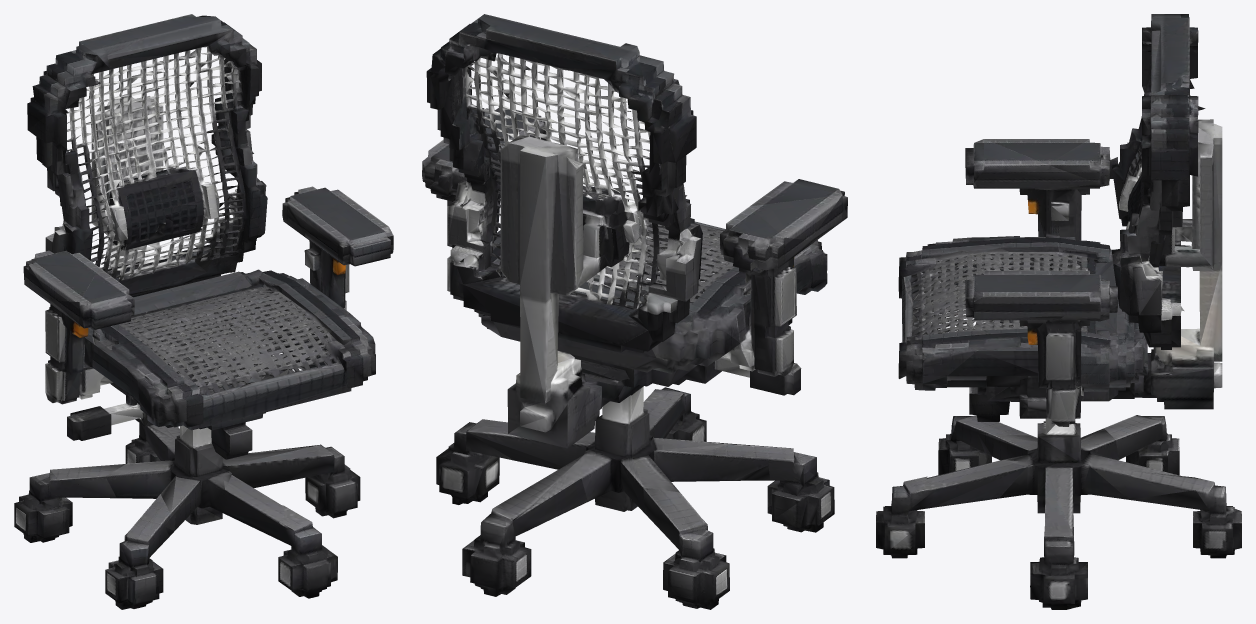
File: ergonomic_chair.glb
The picture shows the model from 3 angles, left to right: view 1: azimuth 30°, elevation 25°; view 2: azimuth 150°, elevation 25°; view 3: azimuth 270°, elevation 25°; orthographic projection. The views are drawn at different scales.
Size of the model in its own units: 1.38 by 2 by 1.35.
1 material, 1 textured.
